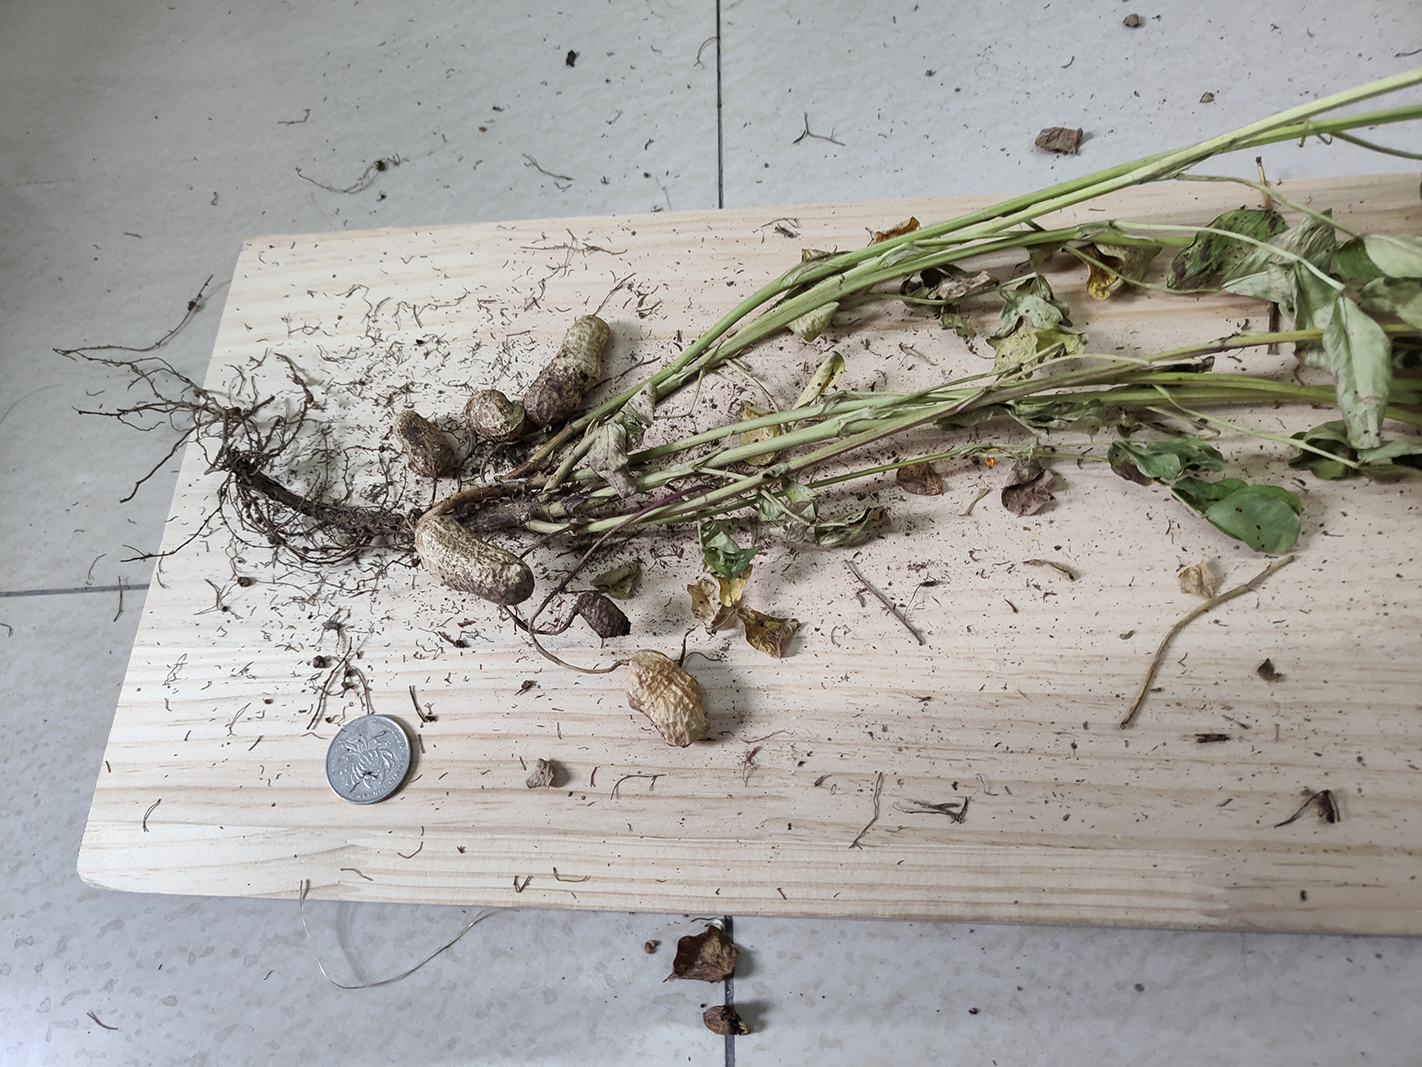h: (413, 514, 535, 602), (523, 316, 612, 432), (623, 649, 705, 748), (463, 388, 523, 440)
l: (394, 407, 453, 476), (578, 592, 631, 639)
